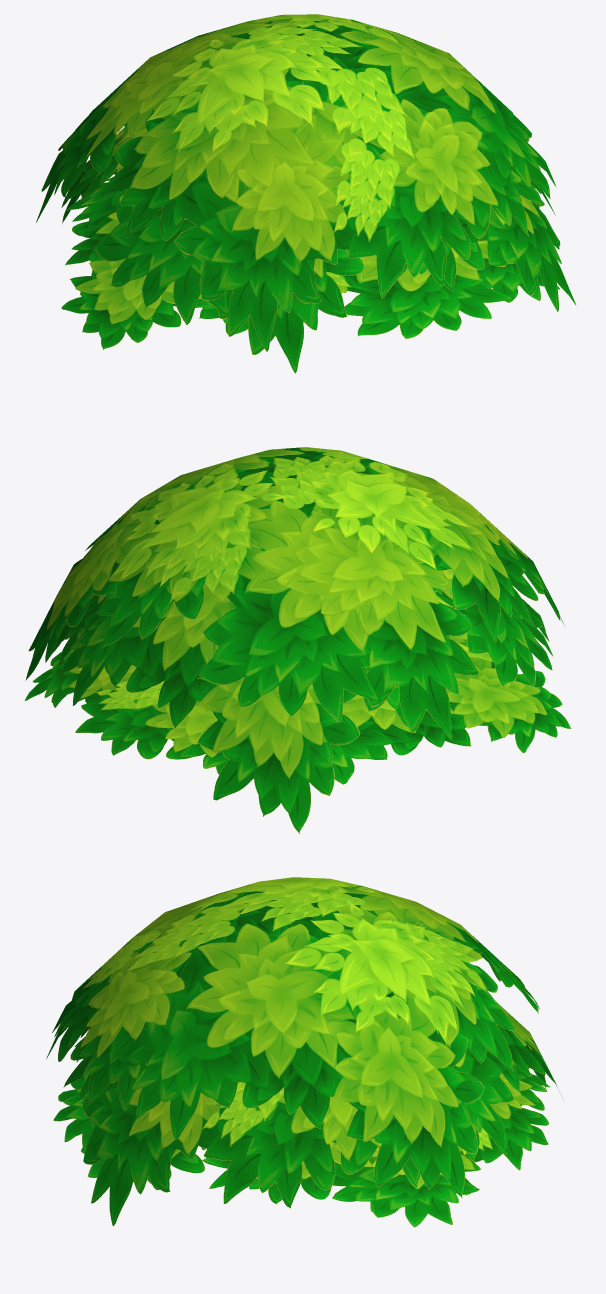
File: Bush.fbx
The picture shows the model from 3 angles, top to bottom: view 1: azimuth 30°, elevation 25°; view 2: azimuth 150°, elevation 25°; view 3: azimuth 270°, elevation 25°; orthographic projection.
Visible parts, largest first — view 1: pSphere1, pSphere3, pSphere2; view 2: pSphere1, pSphere3, pSphere2; view 3: pSphere1, pSphere3, pSphere2.
Part boxes in pixels (x1=…): pSphere1: x1=36, y1=14, x2=555, y2=351; pSphere3: x1=61, y1=122, x2=576, y2=373; pSphere2: x1=61, y1=177, x2=559, y2=349; pSphere1: x1=25, y1=447, x2=564, y2=740; pSphere3: x1=50, y1=569, x2=553, y2=834; pSphere2: x1=24, y1=615, x2=571, y2=784; pSphere1: x1=46, y1=877, x2=539, y2=1198; pSphere3: x1=63, y1=1002, x2=564, y2=1226; pSphere2: x1=53, y1=1060, x2=549, y2=1227.
Bounding box in the file's own units: 3.8 × 1.86 × 3.8.
1 material, 1 textured.
